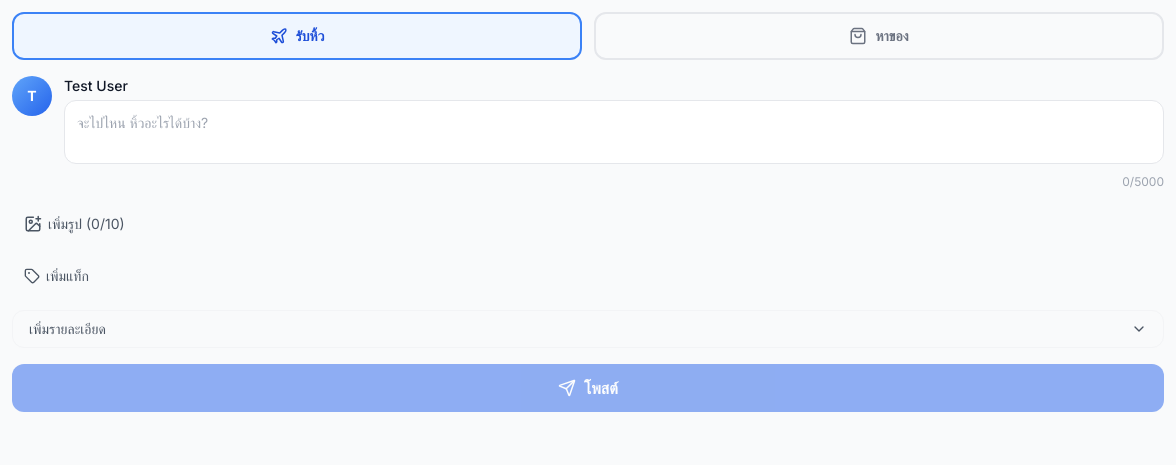
Scenario: CreatePostForm › shows error message on submission failure
Type "Test content" into the text box at (614, 132), box [64,100,1164,164]
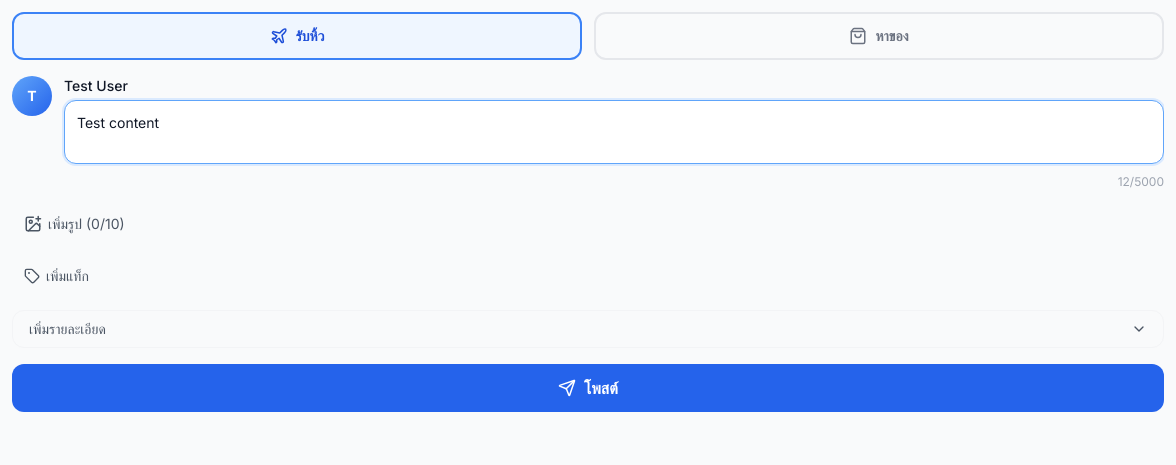
Click the button "โพสต์" at (588, 388), box [12,364,1164,412]
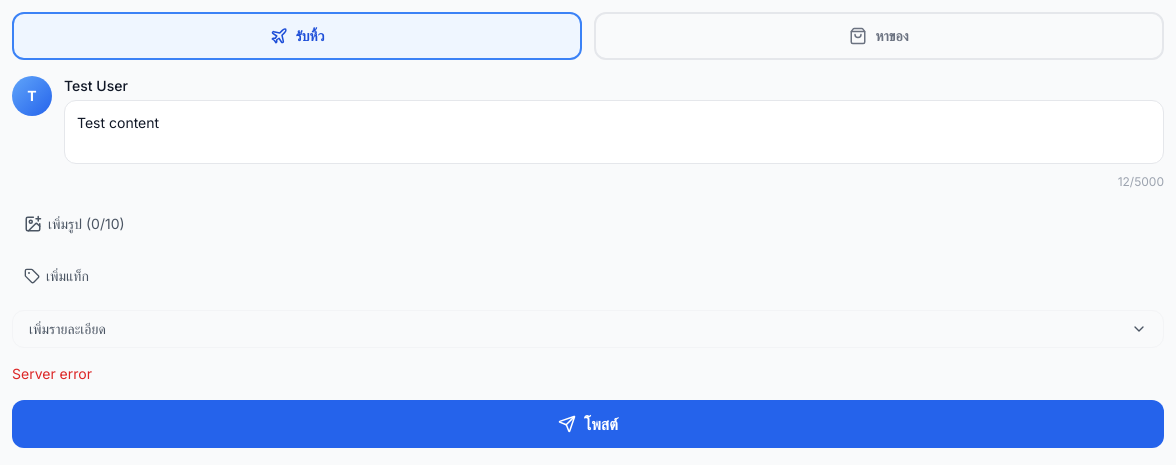
Now the text "Server error" is shown, box [12,365,92,382]
